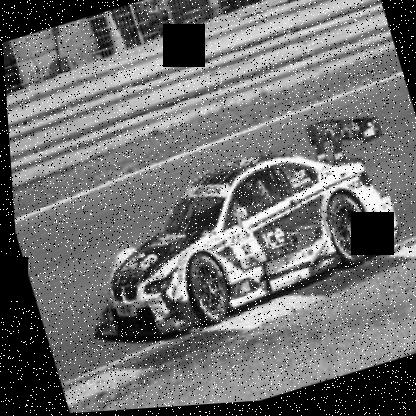not_emergency: (46, 107, 415, 387)
